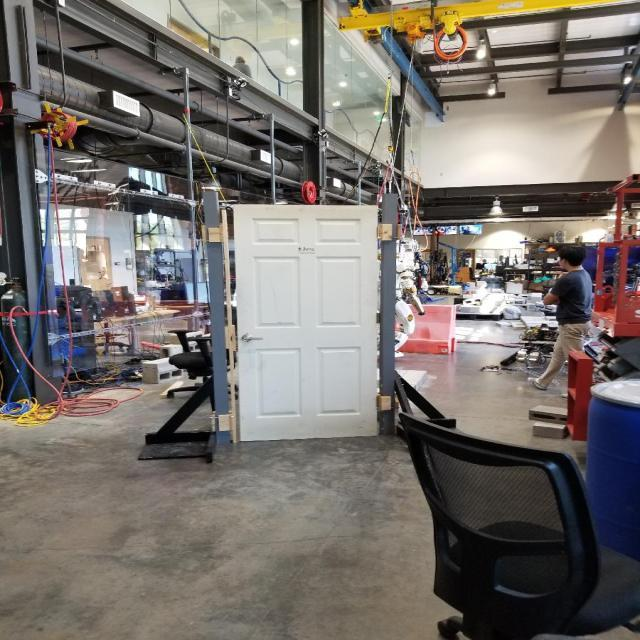door: (232, 203, 381, 446), (239, 332, 264, 343)
